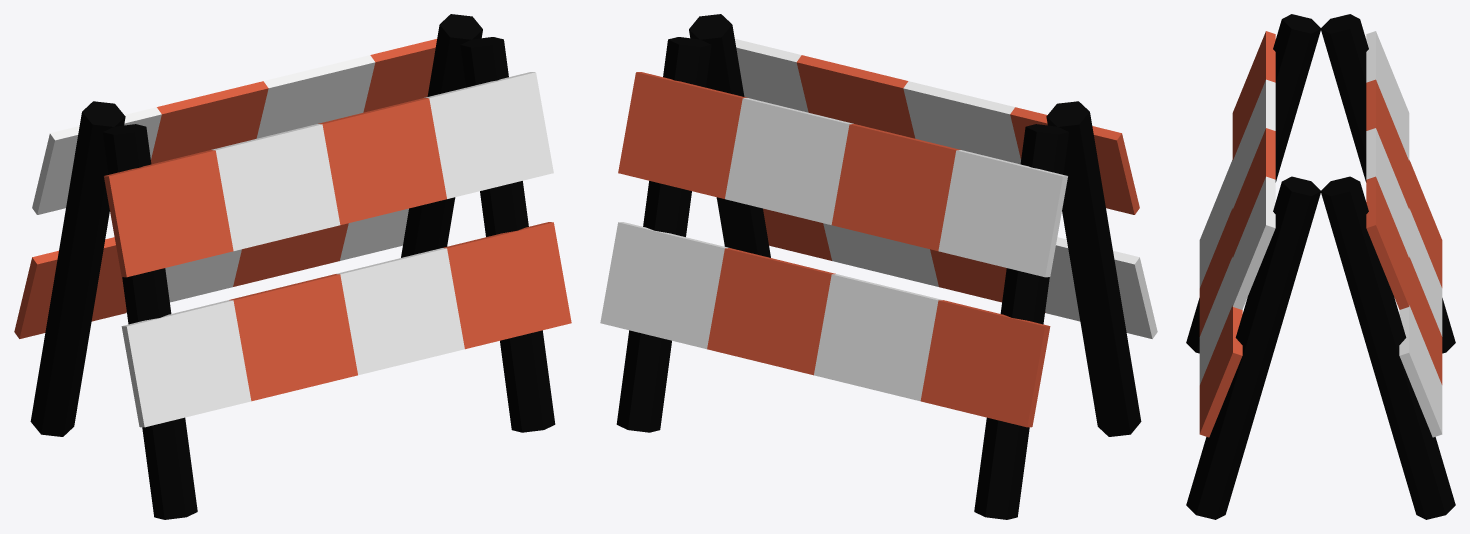
The model's file is Traffic Barrier.glb.
The picture shows the model from 3 angles, left to right: view 1: azimuth 30°, elevation 25°; view 2: azimuth 150°, elevation 25°; view 3: azimuth 270°, elevation 25°; orthographic projection. The views are drawn at different scales.
Visible parts, largest first — view 1: TrafficBarrier_01_Cube.021; view 2: TrafficBarrier_01_Cube.021; view 3: TrafficBarrier_01_Cube.021.
Part boxes in pixels (left/top/right/bottom): TrafficBarrier_01_Cube.021: left=14, top=14, right=571, bottom=519; TrafficBarrier_01_Cube.021: left=600, top=14, right=1157, bottom=519; TrafficBarrier_01_Cube.021: left=1186, top=14, right=1455, bottom=519.
Size of the model in its own units: 8.56 by 6.85 by 5.03.
